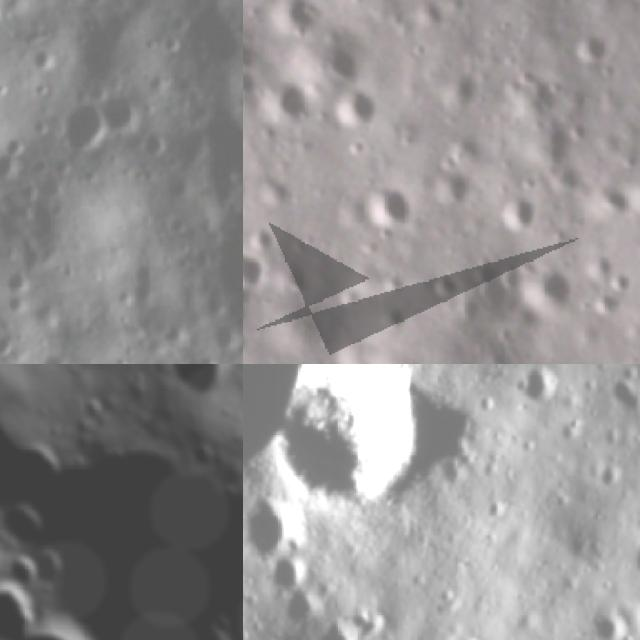crater: (9, 369, 243, 640), (257, 364, 457, 545), (243, 364, 330, 530), (146, 364, 243, 417), (243, 489, 305, 569), (211, 198, 243, 327), (506, 364, 569, 418), (57, 92, 110, 156), (262, 545, 319, 603), (0, 567, 45, 640), (300, 602, 379, 640), (520, 266, 572, 316), (579, 599, 639, 640), (102, 81, 147, 132), (340, 82, 386, 128), (365, 185, 412, 228), (424, 271, 474, 309), (428, 160, 470, 200), (270, 0, 327, 29), (435, 617, 504, 640), (574, 24, 610, 66), (596, 181, 628, 221), (243, 247, 272, 291), (499, 199, 548, 225), (276, 86, 310, 122), (141, 126, 175, 159), (600, 291, 629, 323), (39, 342, 79, 364), (578, 246, 609, 274), (3, 263, 32, 292), (6, 132, 36, 158), (0, 288, 30, 314), (0, 321, 20, 358), (0, 152, 21, 186), (243, 72, 266, 98), (608, 278, 634, 293), (243, 37, 253, 66)
